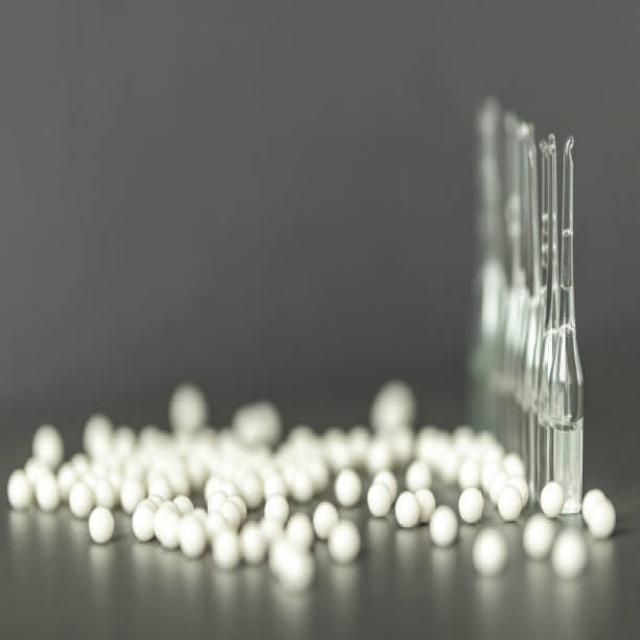B3: (543, 123, 590, 529)
